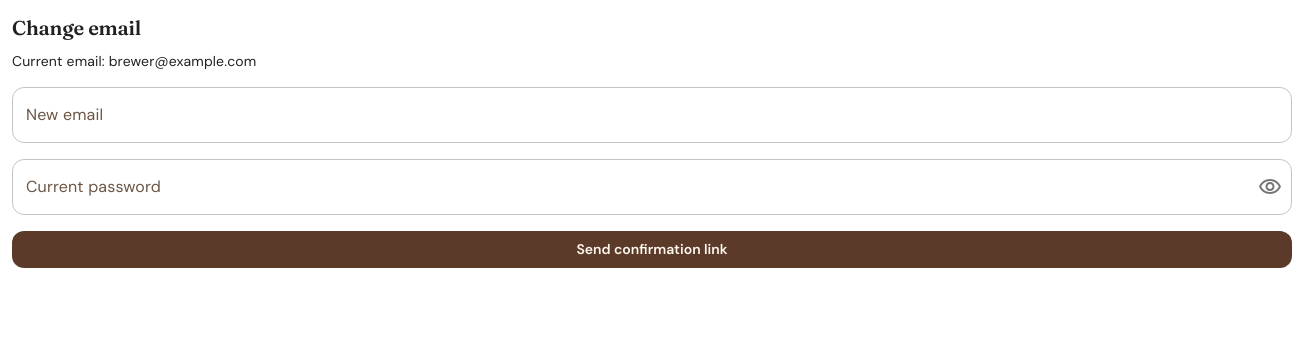
ChangeEmailForm › sends the request and says where the link went without revealing more
Type "New@Example.com" into the field labelled "New email" at [652, 115], box [12,87,1292,143]
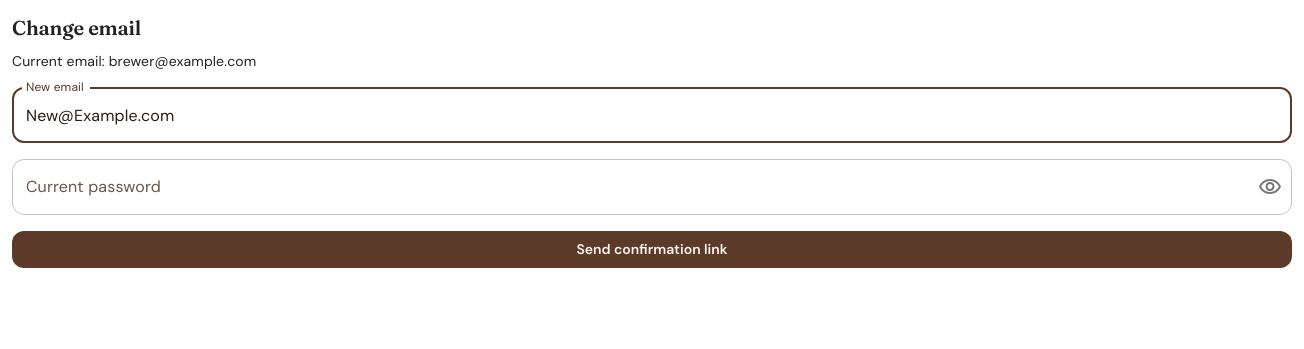
Type "brew-test-pass-001" into the password field labelled "Current password" at [627, 187], box [12,159,1242,215]
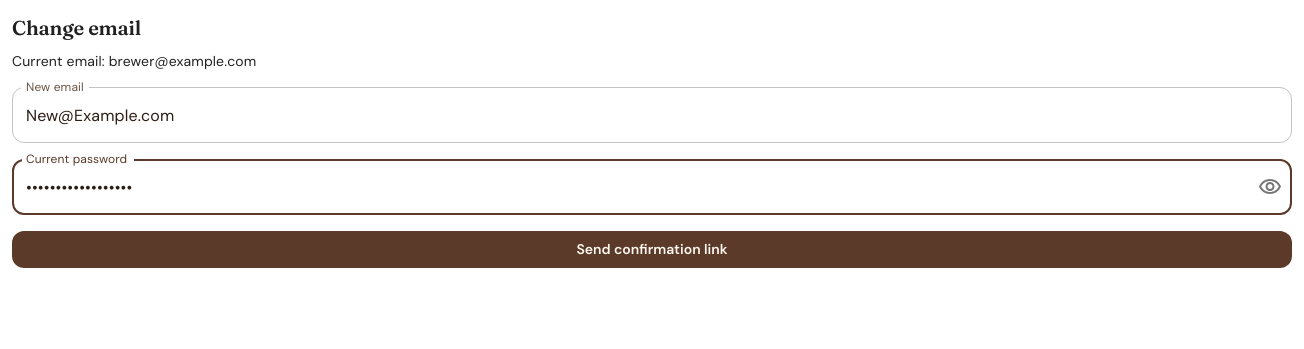
Click the button "Send confirmation link" at [652, 249], box [12,231,1292,268]
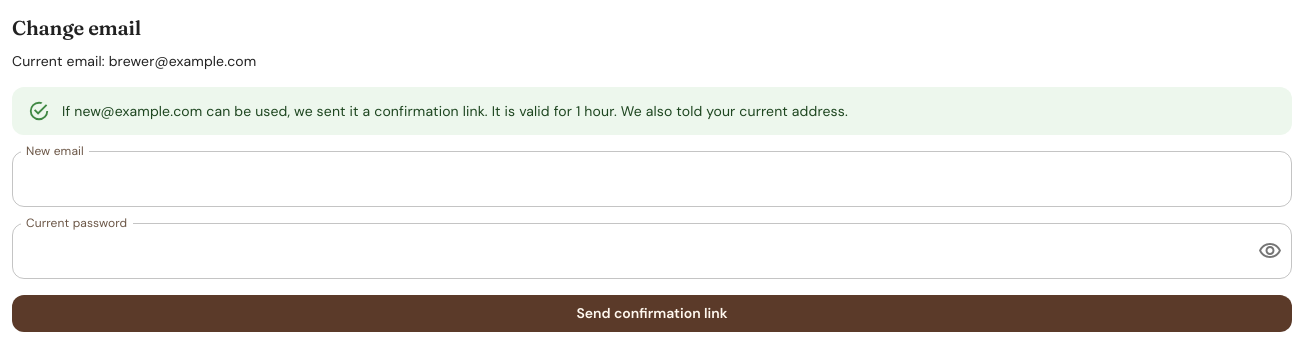
expect the text "If new@example.com can be used, we sent it a confirmation link" is shown: met, box [62,102,848,120]
